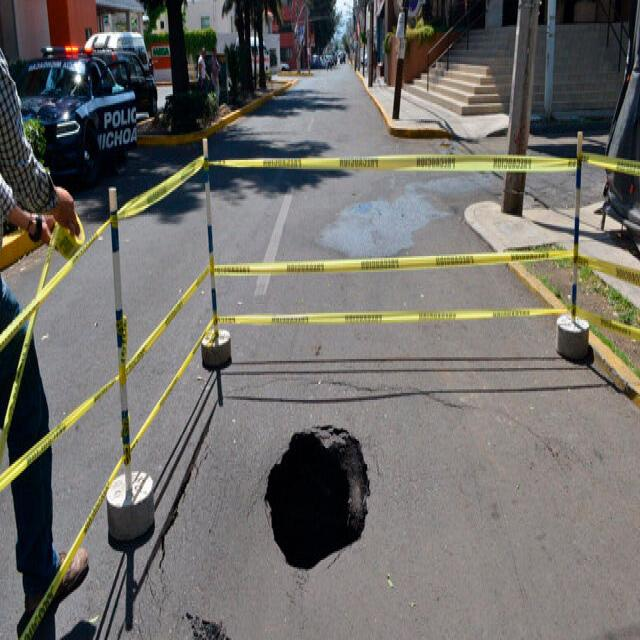Pothole: (236, 393, 413, 601)
